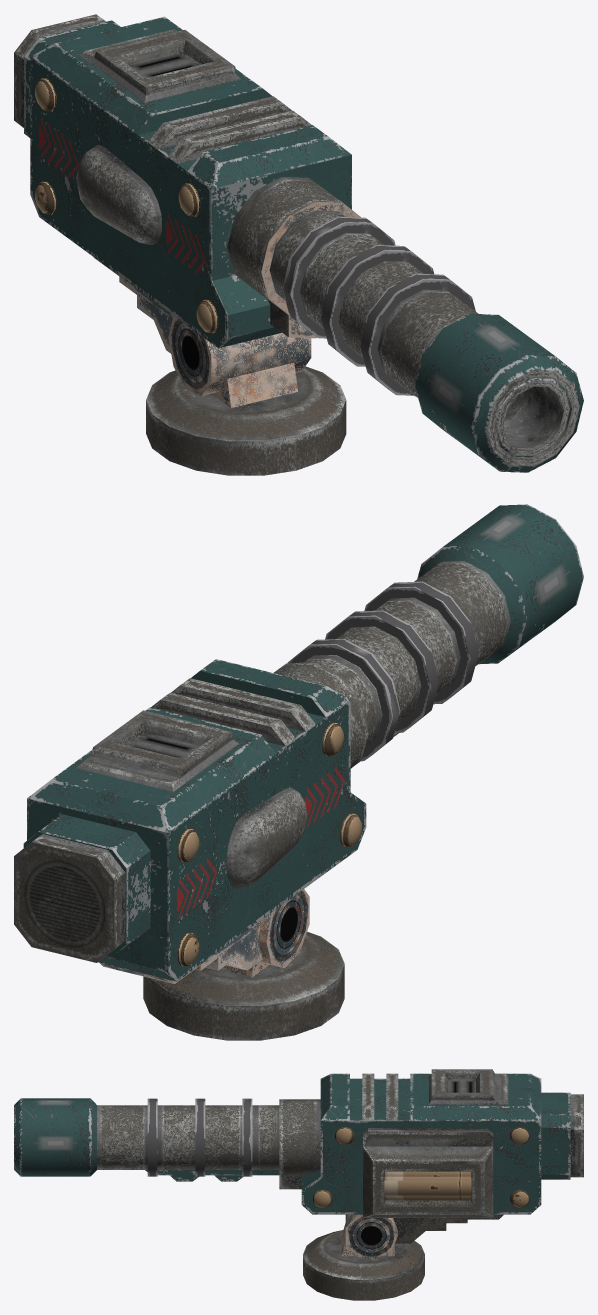
File: Machine_Gun.fbx
3 views of the same model, one above another, from view 1: azimuth 30°, elevation 25°; view 2: azimuth 150°, elevation 25°; view 3: azimuth 270°, elevation 25° (orthographic). The views are drawn at different scales.
Visible parts, largest first — view 1: Machine_Gun_1, Machine_Gun_6, Machine_Gun_3, Machine_Gun_5, Machine_Gun_4; view 2: Machine_Gun_1, Machine_Gun_6, Machine_Gun_3; view 3: Machine_Gun_1, Machine_Gun_6, Machine_Gun_5, Machine_Gun_4.
Part boxes in pixels (<box>): Machine_Gun_1: <box>30,16,360,475</box>; Machine_Gun_6: <box>14,14,583,472</box>; Machine_Gun_3: <box>76,144,530,423</box>; Machine_Gun_5: <box>414,378,570,457</box>; Machine_Gun_4: <box>498,380,569,456</box>; Machine_Gun_1: <box>27,659,368,1040</box>; Machine_Gun_6: <box>14,504,583,962</box>; Machine_Gun_3: <box>226,787,307,888</box>; Machine_Gun_1: <box>279,1069,541,1300</box>; Machine_Gun_6: <box>14,1092,583,1200</box>; Machine_Gun_5: <box>145,1170,471,1195</box>; Machine_Gun_4: <box>214,1175,471,1181</box>.
Size of the model in its own units: 27.12 by 114 by 42.38.
Materials: 1 (1 with a texture image).
